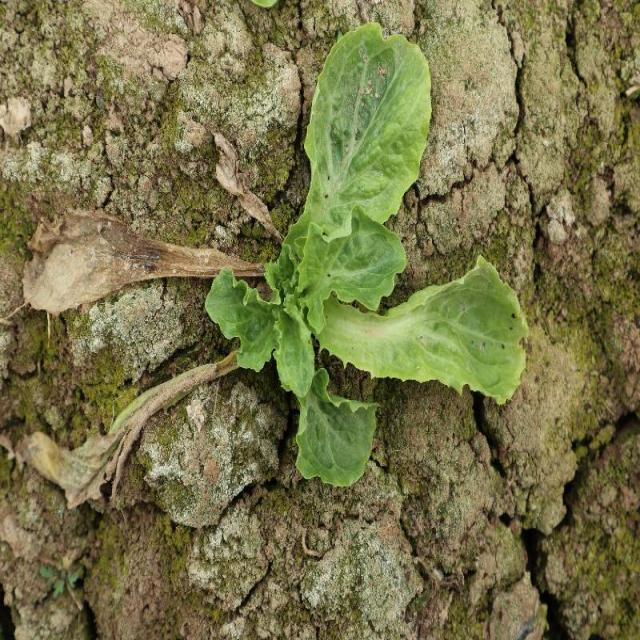crop: (204, 23, 530, 490)
